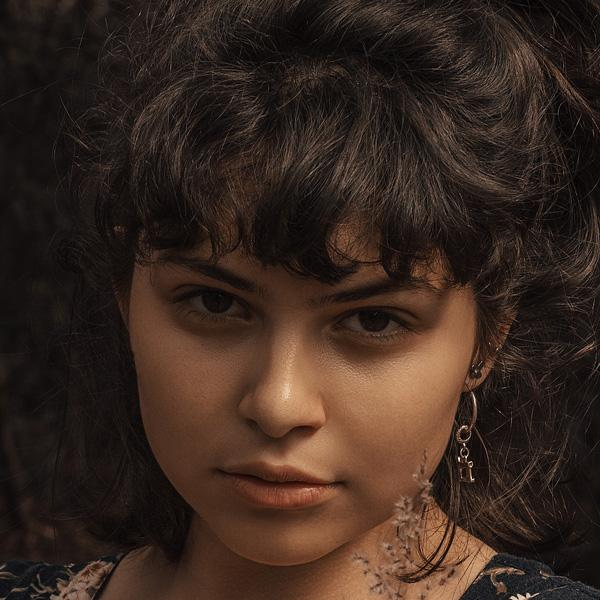Eyes: (158, 273, 264, 334), (321, 297, 424, 351)
